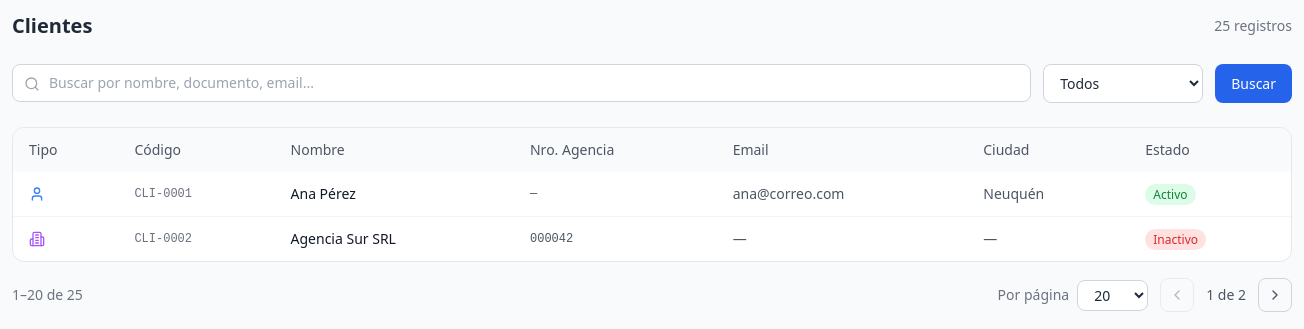
it: ClientesListPage › en la primera página no se puede retroceder y en la última no se puede avanzar
Expected: the text "1–20 de 25" is shown, x1=12 y1=285 x2=83 y2=305
Expected: the button named "Página anterior" is disabled, x1=1160 y1=278 x2=1194 y2=312
Click the button named "Página siguiente" at (1275, 295), box x1=1258 y1=278 x2=1292 y2=312
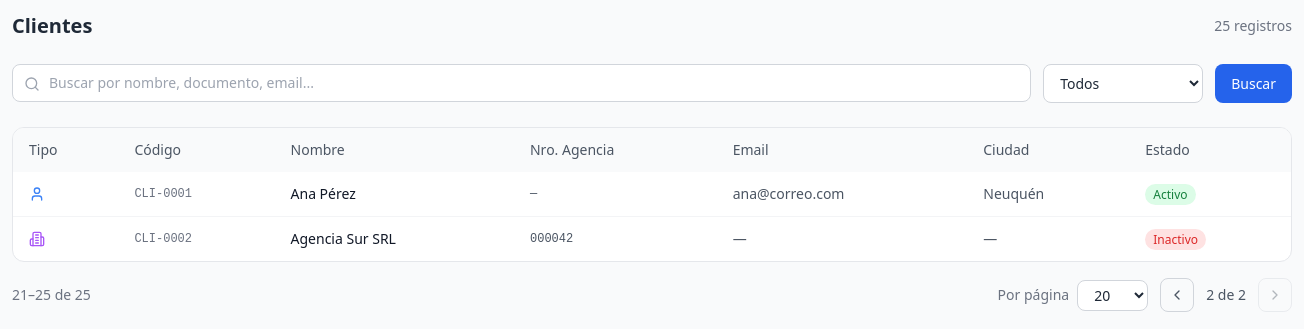
Result: the text "21–25 de 25" is shown at x1=12 y1=285 x2=91 y2=305
